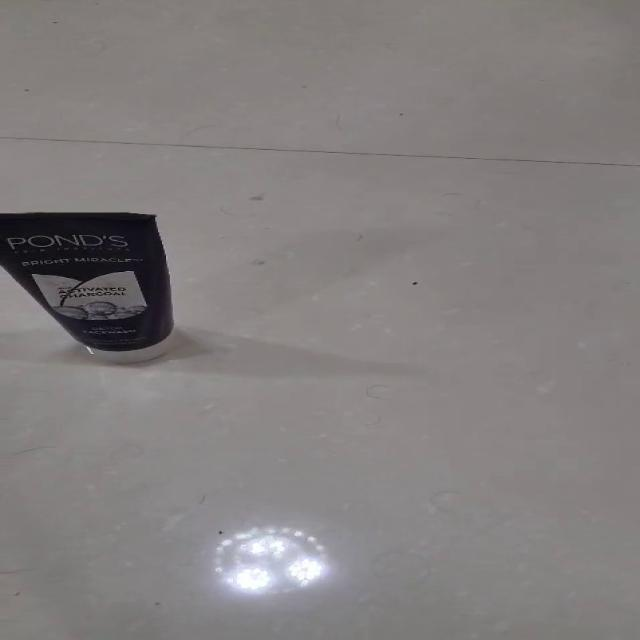plastic: (0, 210, 175, 363)
